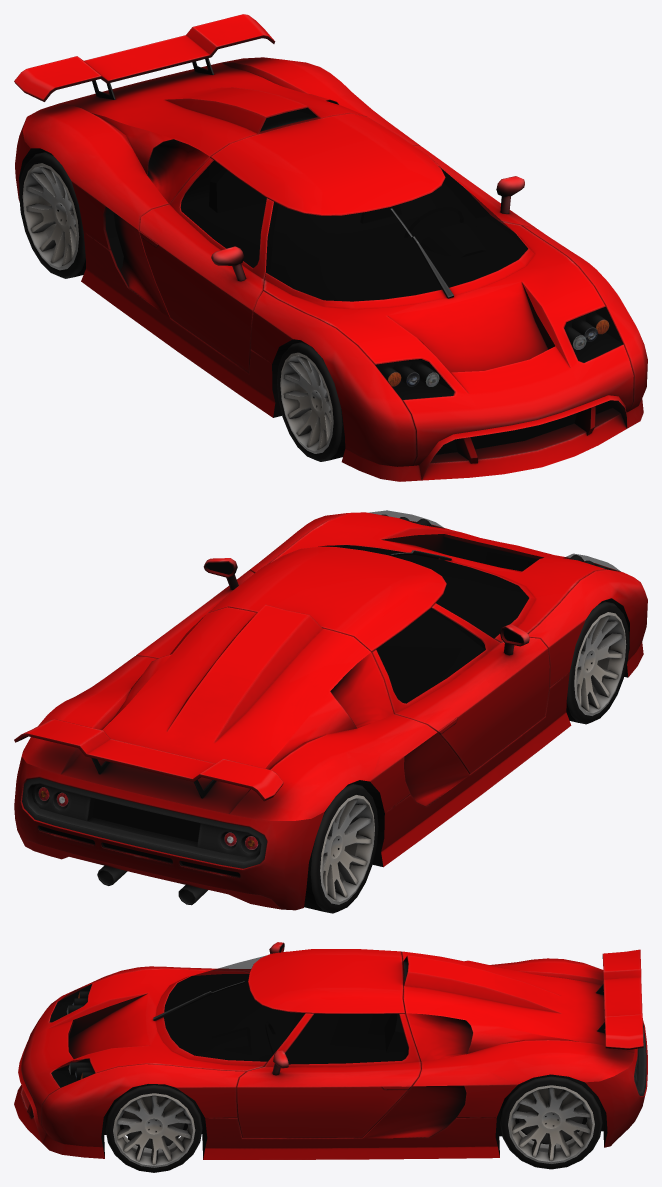
Rendered from car3.glb.
The picture shows the model from 3 angles, top to bottom: view 1: azimuth 30°, elevation 25°; view 2: azimuth 150°, elevation 25°; view 3: azimuth 270°, elevation 25°; orthographic projection. The views are drawn at different scales.
Parts seen in each view (by area): view 1: Sport body, Wheel_H003, Wheel_H002; view 2: Sport body, Wheel_H003, Wheel_H002; view 3: Sport body, Wheel_H001, Wheel_H.
Part boxes in pixels (bbox=[...]): Sport body: bbox=[14, 14, 647, 481]; Wheel_H003: bbox=[19, 151, 85, 278]; Wheel_H002: bbox=[277, 341, 345, 461]; Sport body: bbox=[14, 510, 647, 910]; Wheel_H003: bbox=[304, 783, 378, 913]; Wheel_H002: bbox=[566, 601, 629, 724]; Sport body: bbox=[14, 942, 647, 1159]; Wheel_H001: bbox=[499, 1074, 602, 1169]; Wheel_H: bbox=[105, 1084, 202, 1172].
Bounding box in the file's own units: 1.77 × 1.04 × 3.91.
Materials: 4 (3 with a texture image).
